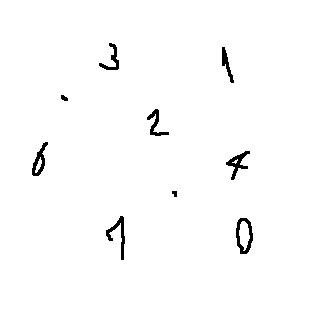.: (58, 90, 74, 110)
0: (232, 212, 256, 257)
1: (215, 45, 241, 90)
2: (136, 106, 177, 146)
3: (93, 40, 127, 75)
4: (219, 142, 255, 187)
6: (22, 135, 55, 180)
7: (101, 208, 138, 263)
